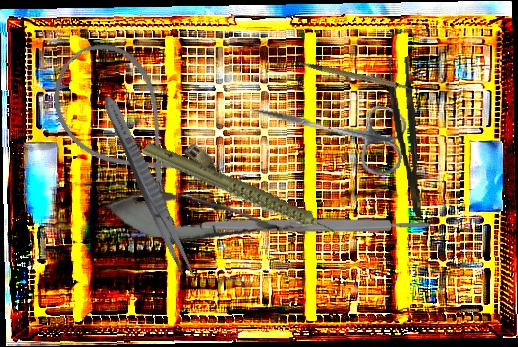Cannula: (31, 25, 242, 253)
Dressing Forceps: (96, 91, 203, 286)
Handpiece: (140, 105, 344, 283)
Iris Scissors: (241, 79, 412, 179)
Micro Scissor: (98, 183, 313, 256)
Scalpel Handle: (296, 42, 415, 107), (201, 219, 431, 232)
Tissue Forceps: (386, 56, 424, 219)
